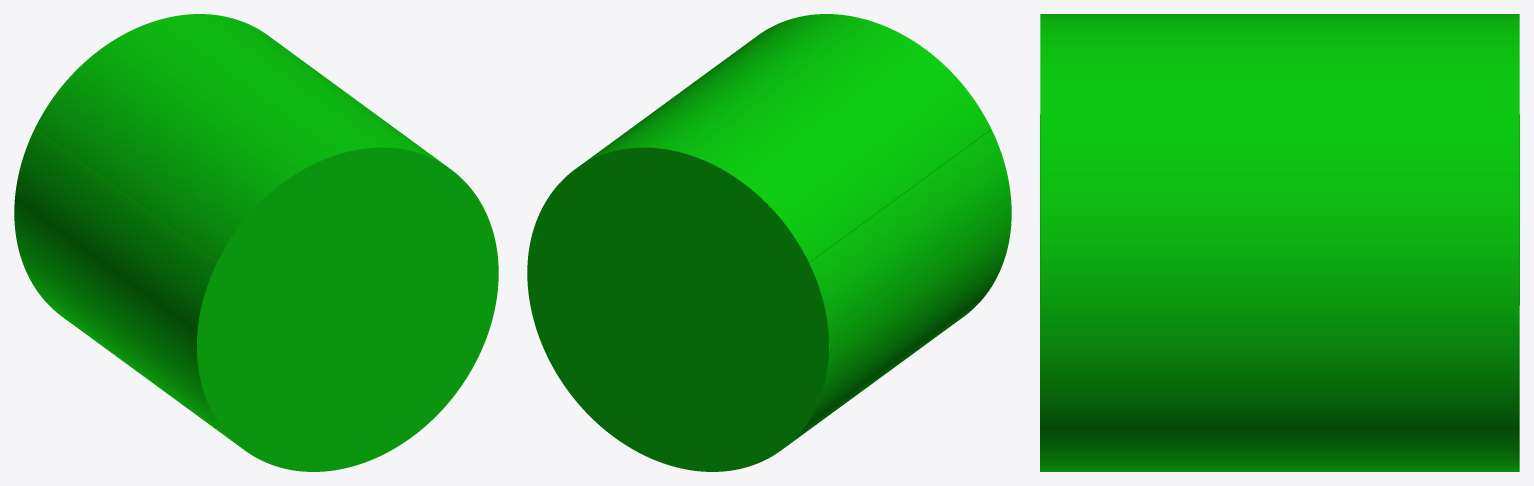
Rendered from plane bend99.obj.
The picture shows the model from 3 angles, left to right: view 1: azimuth 30°, elevation 25°; view 2: azimuth 150°, elevation 25°; view 3: azimuth 270°, elevation 25°; orthographic projection. The views are drawn at different scales.
Visible parts, largest first — view 1: Plane, Circle; view 2: Plane, Circle.001, Circle; view 3: Plane, Circle.
Boxes of the visible parts, box(x1,y1,x2,y2) form: Plane: box(14, 14, 445, 447); Circle: box(196, 147, 498, 471); Plane: box(580, 14, 1011, 447); Circle.001: box(527, 147, 828, 471); Circle: box(767, 14, 991, 262); Plane: box(1040, 14, 1519, 471); Circle: box(1040, 14, 1042, 471).
Size of the model in its own units: 1.91 by 1.91 by 2.
